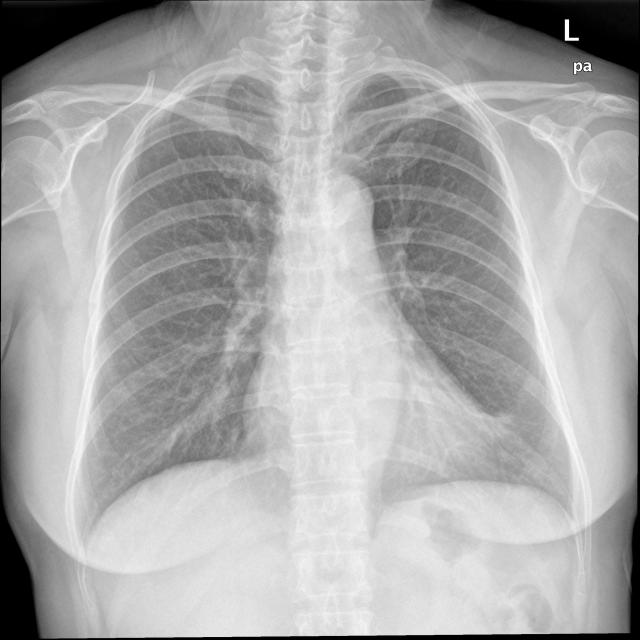no-pneumonia: (88, 77, 278, 511), (344, 77, 546, 444)
